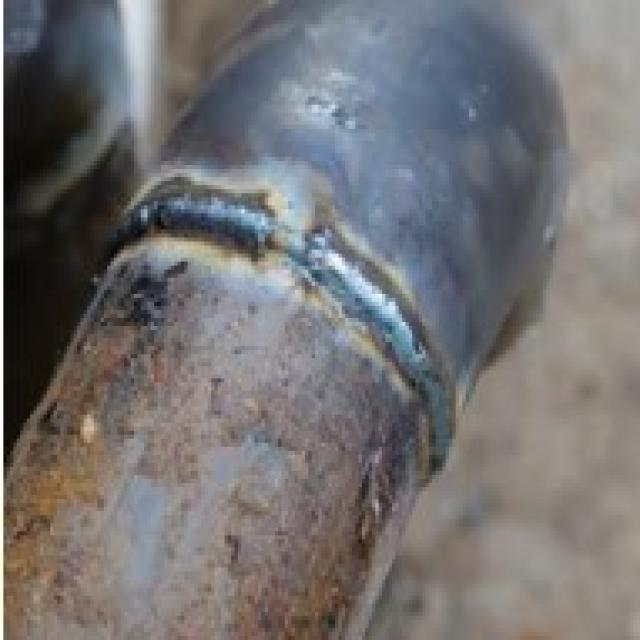Bad Welding: (111, 167, 475, 487)
